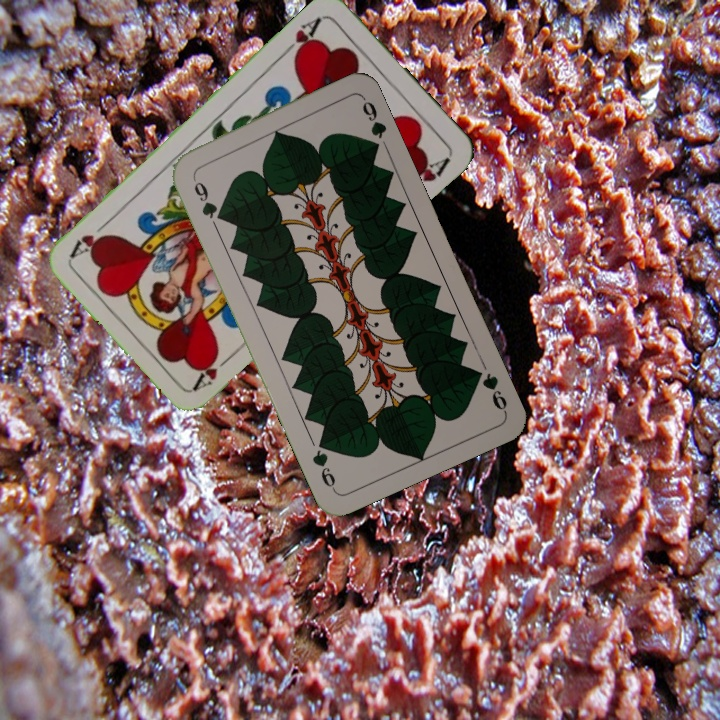G9: (468, 364, 510, 415), (188, 171, 226, 224)
HA: (278, 13, 325, 63), (189, 347, 239, 393)
